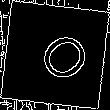O_SW: (21, 22, 89, 88)
